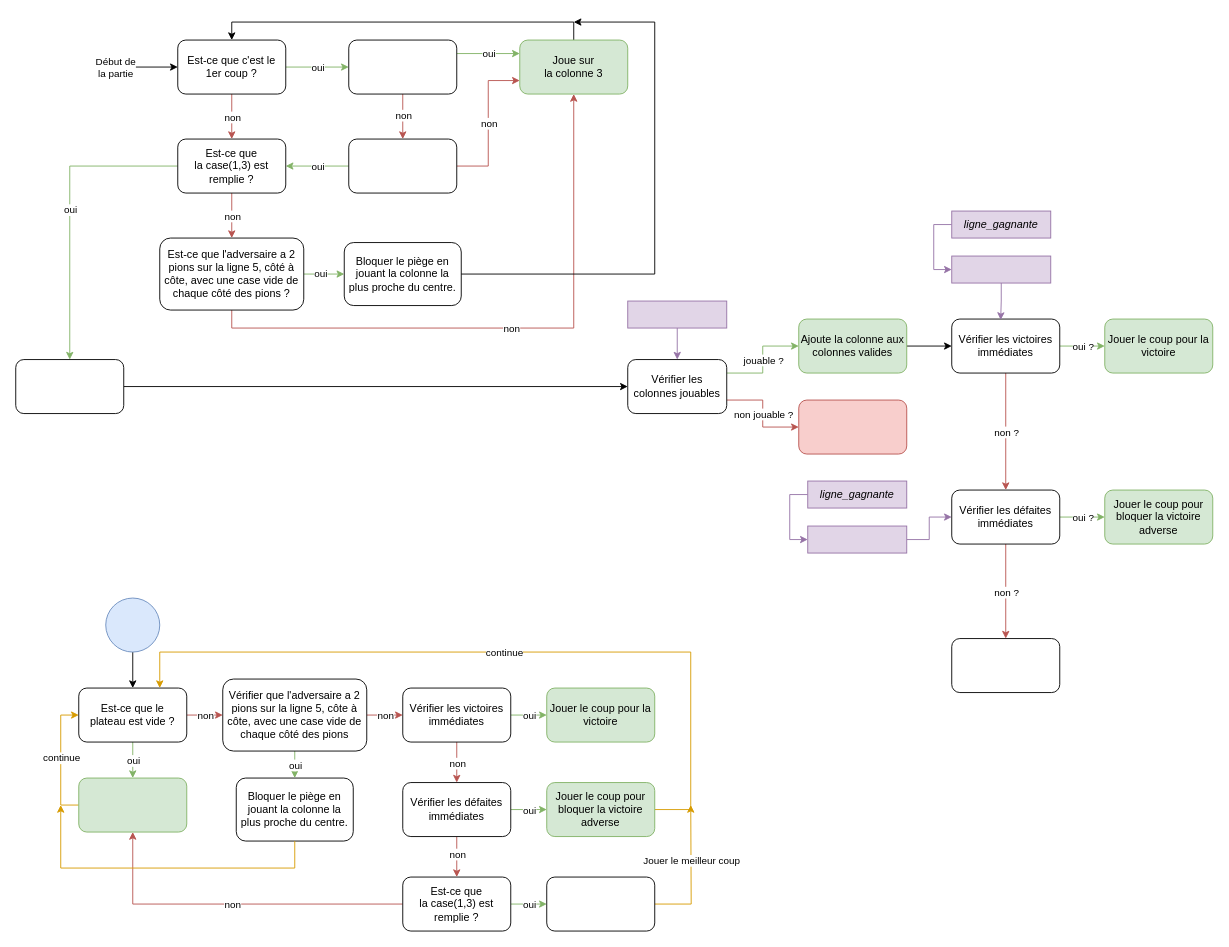
Some shapes in this 1229 by 947 pixel diagram are drawn without their labels. The shapes that lost their labels are listed below. From the top down, each one's box as (x1, y1, x2, y2) in pixels, then its label:
(348, 39, 457, 94): Est-ce qu'on commence ?
(348, 138, 457, 193): Est-ce que l'adversaire a joué sur la colonne 3 ?
(951, 255, 1051, 283): instant_victoire
(627, 300, 727, 328): coup_legal
(15, 359, 124, 414): Logique de jeu normale
(798, 399, 907, 454): Ignore la colonne
(807, 525, 907, 553): instant_defaite
(105, 597, 160, 652): Début de partie
(951, 638, 1060, 693): Etude du meilleur coup
(78, 777, 187, 832): Joue colonne 3
(546, 876, 655, 931): Evaluation MiniMax
